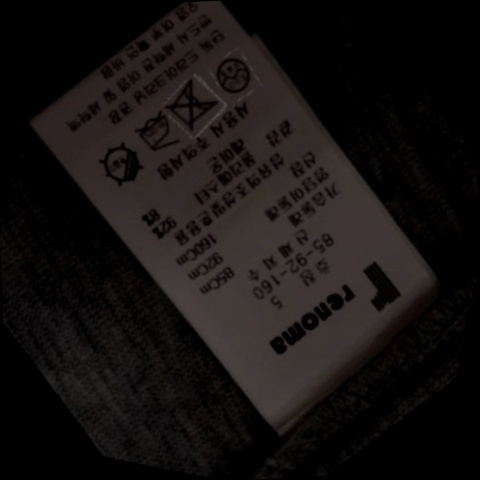DN_wash: (162, 76, 227, 135)
dry_clean_petrol_only: (209, 48, 261, 100)
iron_low: (127, 107, 185, 160)
line_dry_in_shade: (93, 138, 156, 194)
